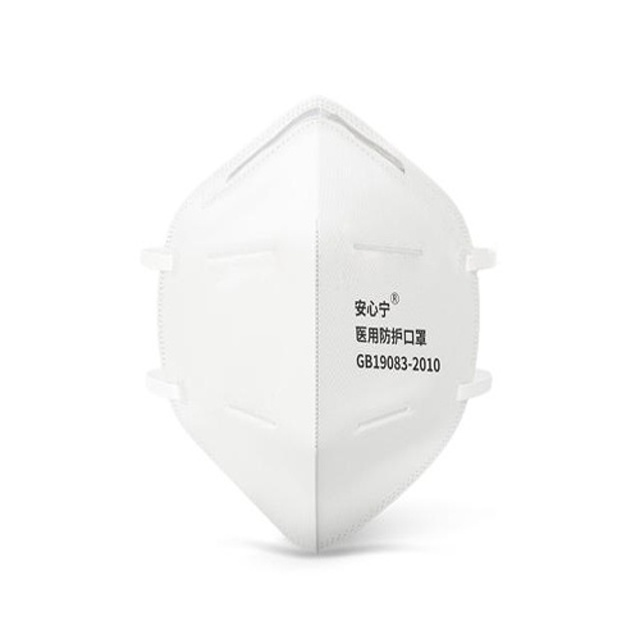mask: (145, 97, 493, 553)
